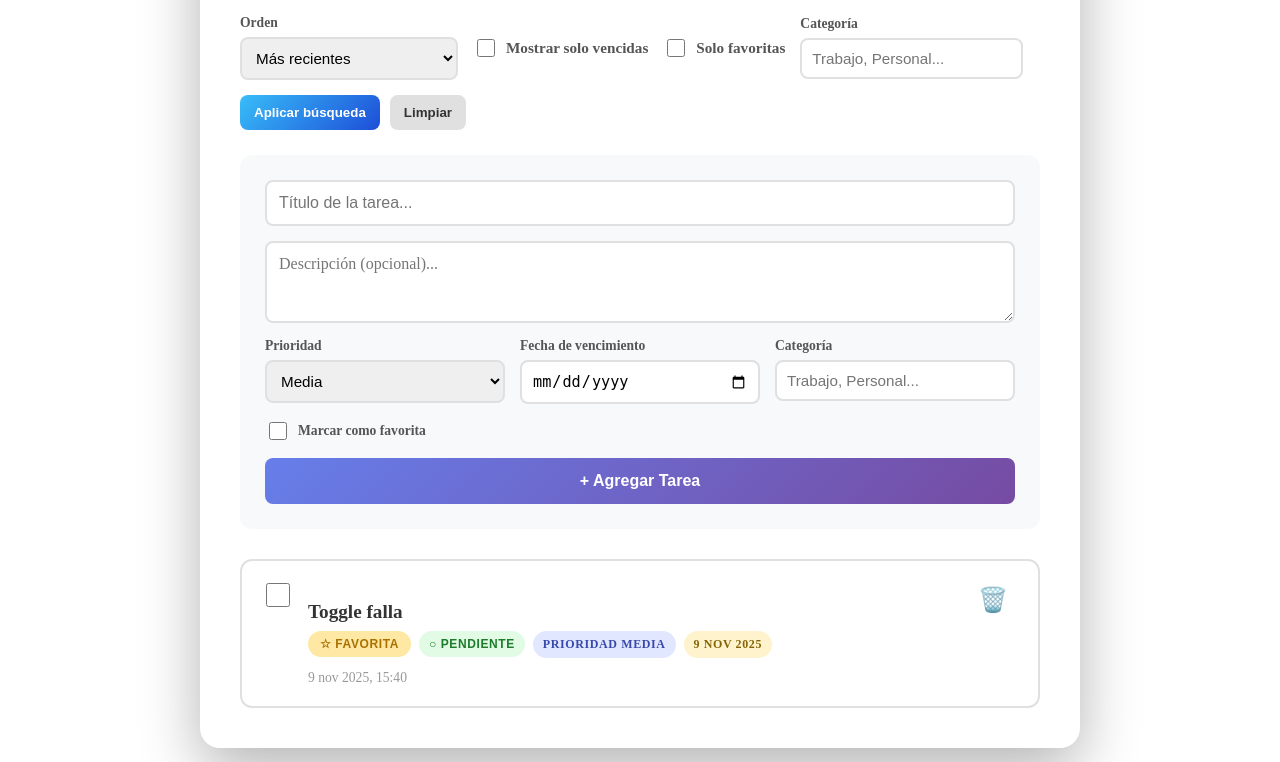
Test: App - Gestión de Tareas › muestra un mensaje de error cuando falla el toggle de completada
(page scrolled)
Expected: the text "Toggle falla" is shown, [308, 601, 403, 622]
Click the 4th checkbox: (278, 595) [266, 583, 290, 607]
(page scrolled)
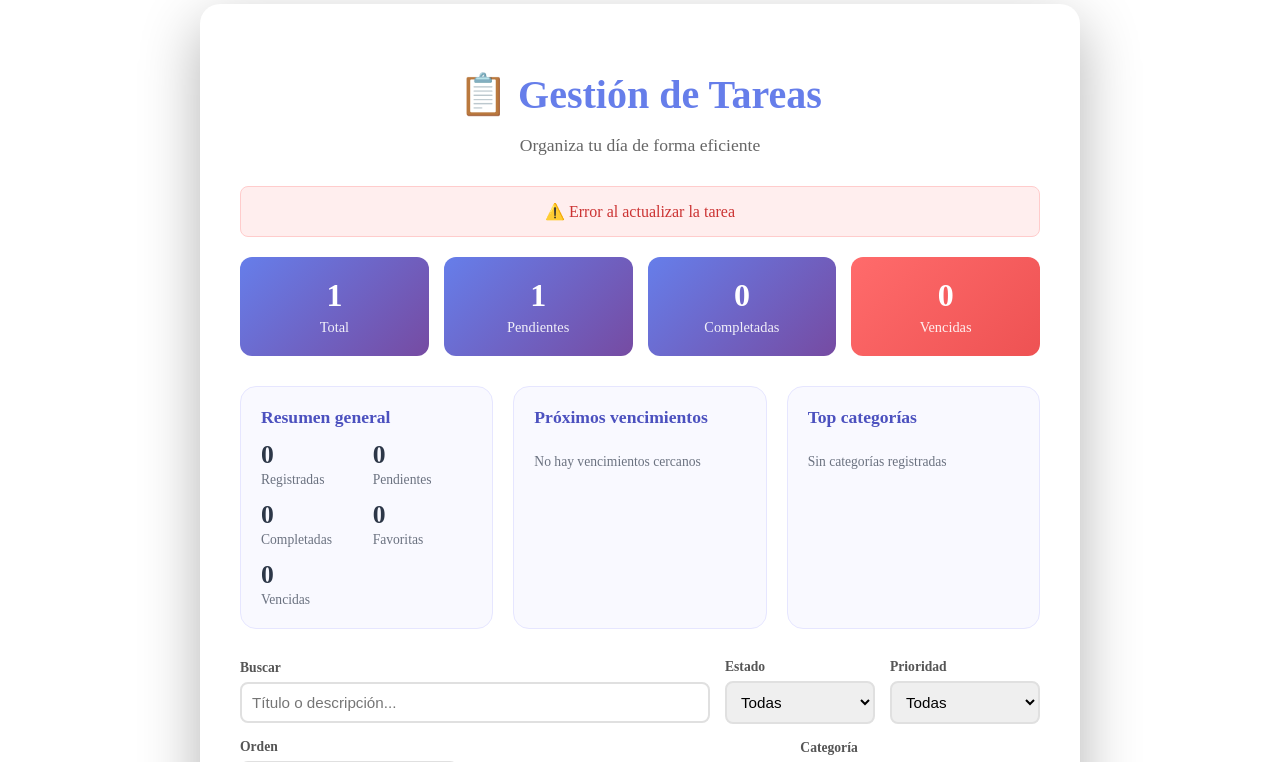
Expected: the text "⚠️ Error al actualizar la tarea" is shown, [240, 186, 1040, 237]
